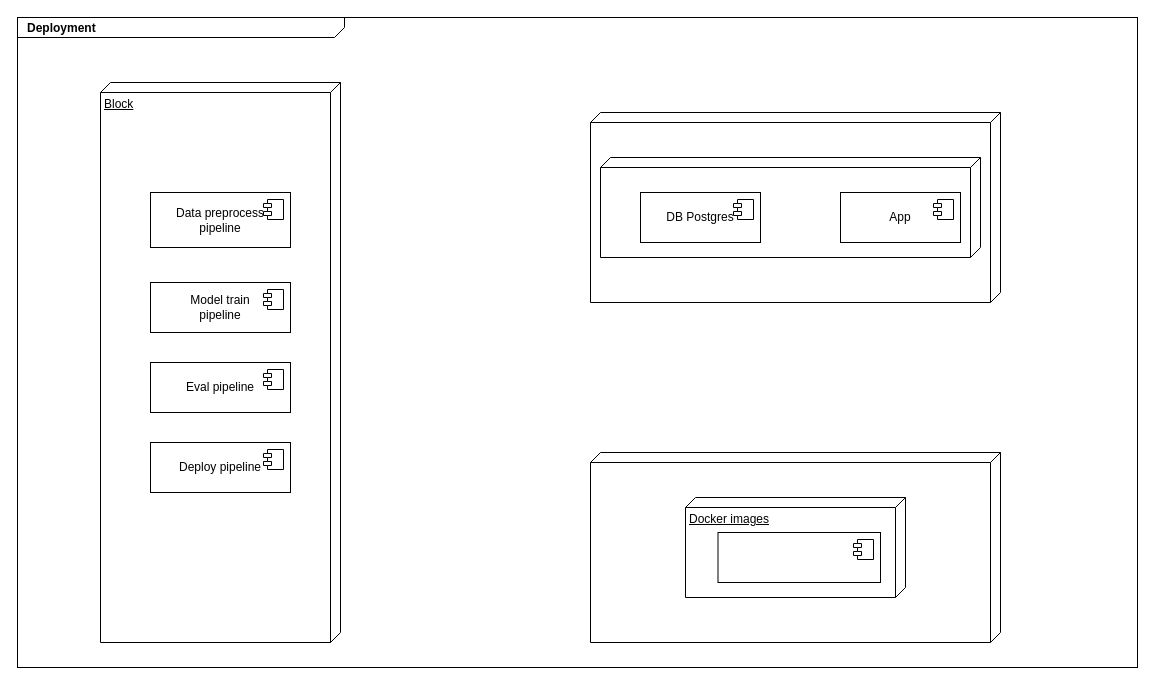
Image size: 1155x685. Some labels were removed from this diagram. The shapes that lost their labels are listed below. From the top down, each one's box as (x1, y1, x2, y2) in pixels, then its label:
(600, 156, 980, 258): K8S Minikube
(590, 112, 1000, 302): Server
(590, 452, 1000, 642): Docker hub
(717, 532, 880, 582): Rest API + model
